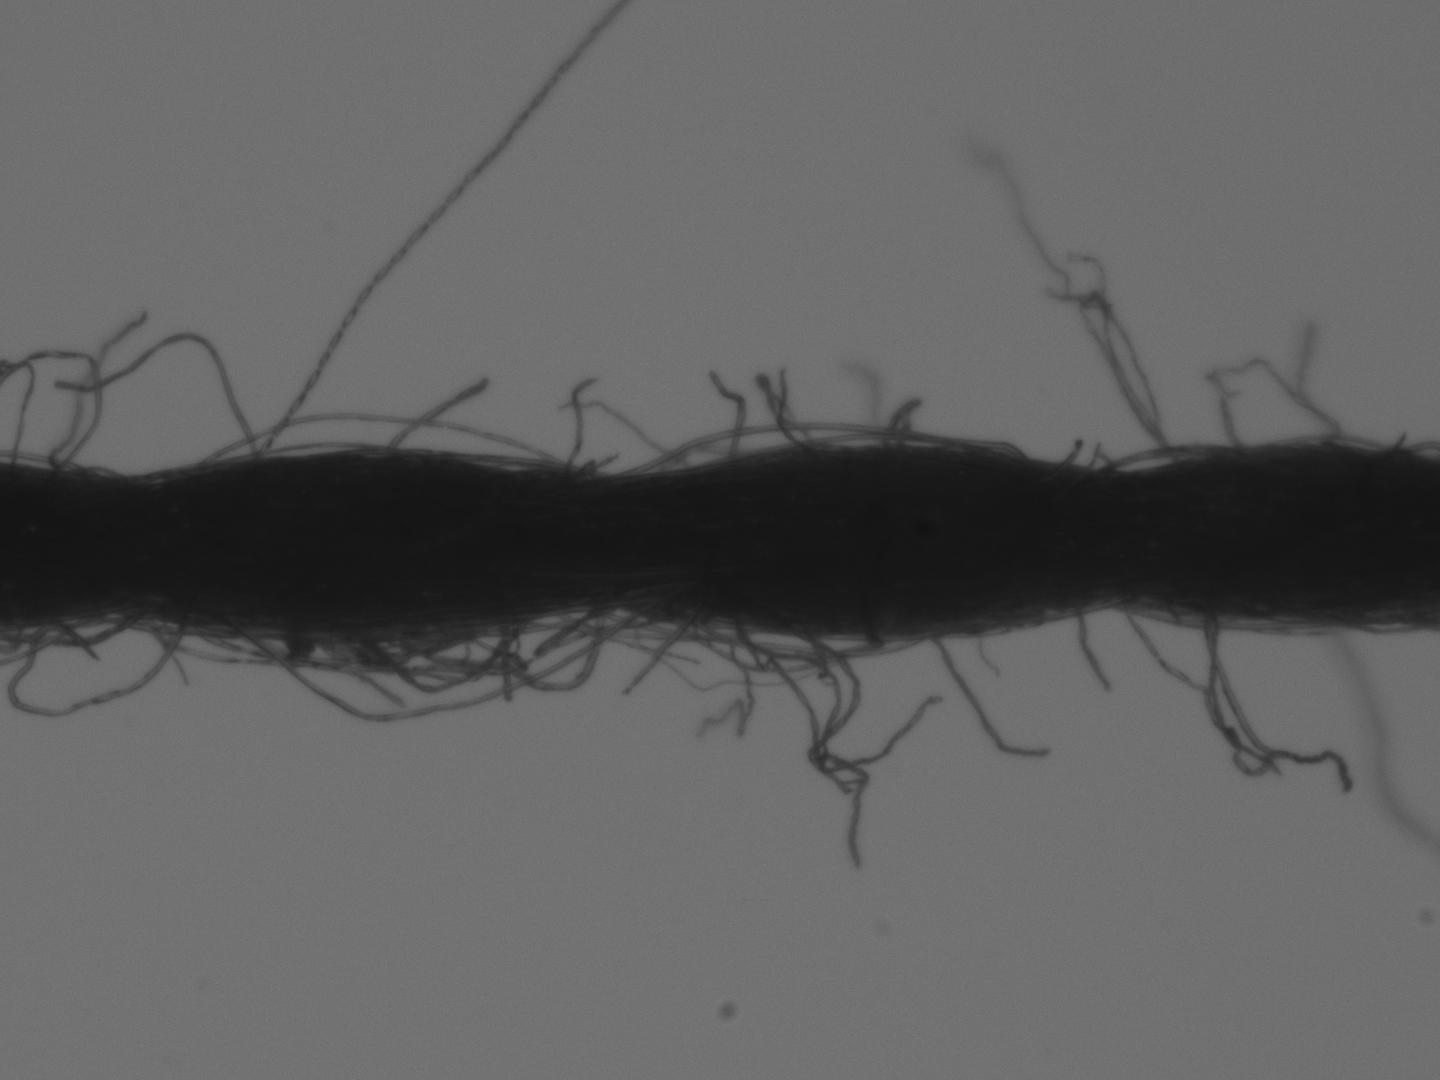loop_fiber: (229, 608, 655, 725), (596, 414, 1024, 489), (3, 589, 210, 723), (196, 407, 556, 471), (396, 606, 603, 693), (355, 614, 520, 694), (685, 618, 880, 674), (1091, 441, 1254, 486)
protruding_fiber: (927, 628, 1047, 763), (375, 370, 493, 450)
